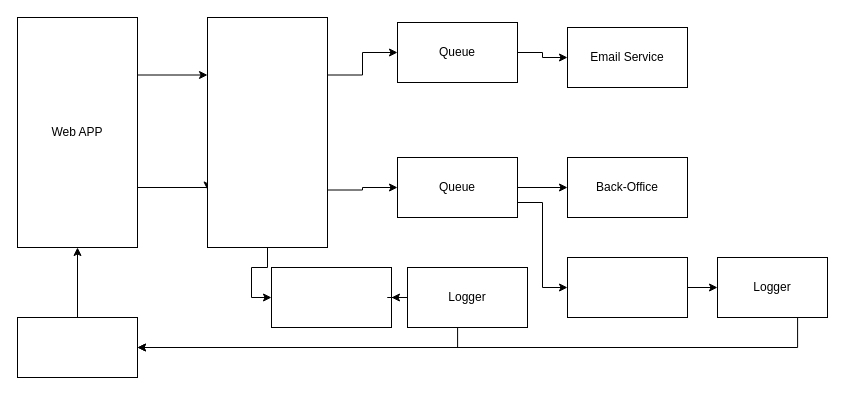
Some shapes in this 845 by 395 pixel diagram are drawn without their labels. Each missing label, with the centre of its shape:
"AdminApp" belongs at (x=77, y=347).
"Dead-Letter Queue" belongs at (x=627, y=287).
"Invalid Message Queue" belongs at (x=331, y=297).
"Topic Exchange" belongs at (x=267, y=132).
